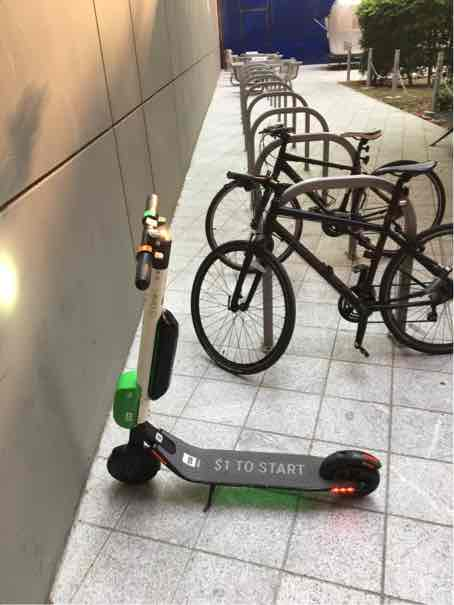scooter: (87, 167, 381, 522)
